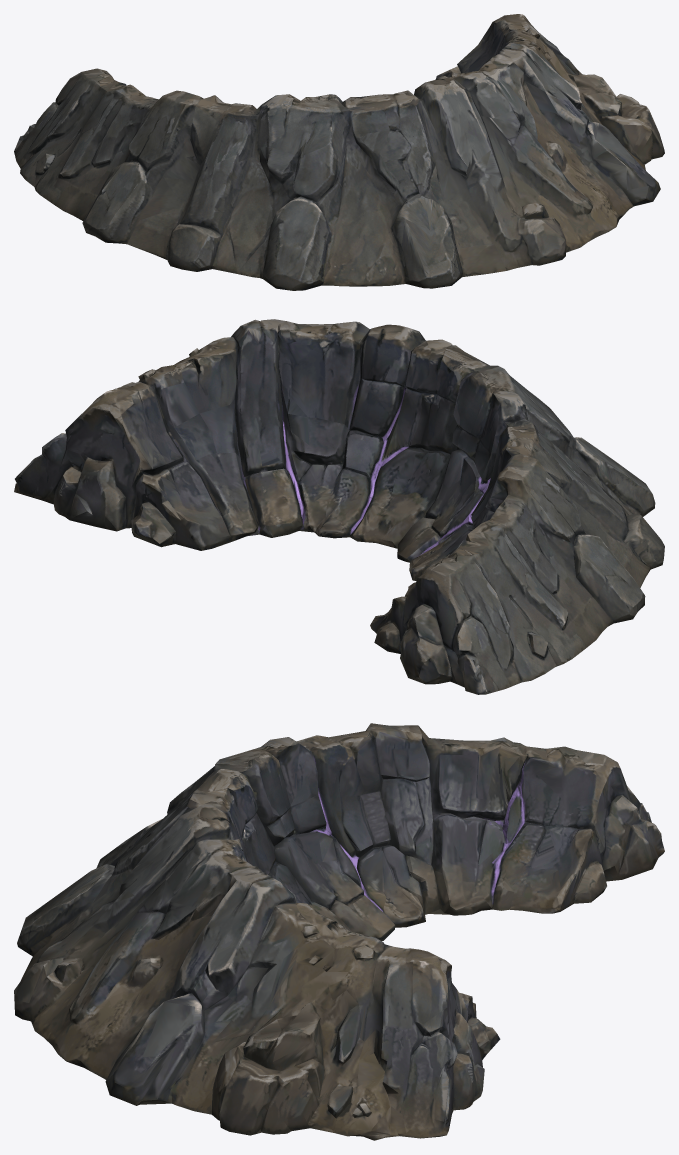
3 views of the same model, one above another, from view 1: azimuth 30°, elevation 25°; view 2: azimuth 150°, elevation 25°; view 3: azimuth 270°, elevation 25° (orthographic). The views are drawn at different scales.
Parts seen in each view (by area): view 1: crater_rim; view 2: crater_rim; view 3: crater_rim.
Part boxes in pixels (<box>): crater_rim: <box>14,14,664,290</box>; crater_rim: <box>14,319,664,694</box>; crater_rim: <box>14,723,664,1140</box>.
Size of the model in its own units: 0.9798 by 0.2432 by 0.8162.
Materials: 1 (1 with a texture image).
